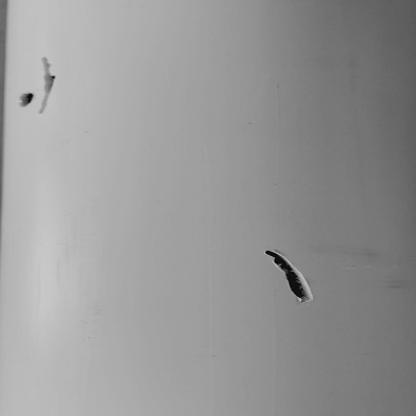kongdong: (260, 243, 320, 306), (41, 55, 67, 119), (10, 88, 38, 110)
